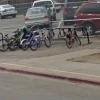Bicycle: (18, 26, 90, 54)
